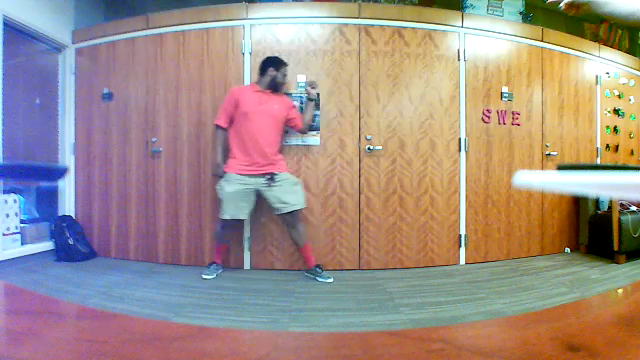up: (301, 69, 323, 100)
